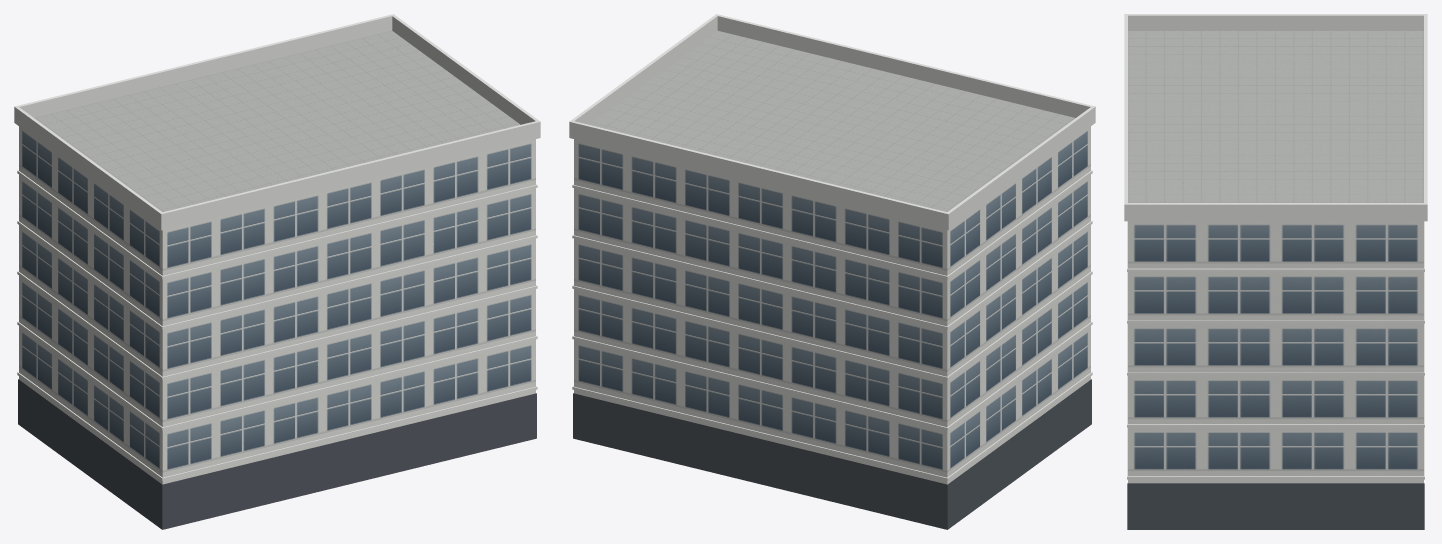
The model's file is dorm_qinyuan_d5.glb.
The picture shows the model from 3 angles, left to right: view 1: azimuth 30°, elevation 25°; view 2: azimuth 150°, elevation 25°; view 3: azimuth 270°, elevation 25°; orthographic projection. The views are drawn at different scales.
Parts seen in each view (by area): view 1: manual-33; view 2: manual-33; view 3: manual-33.
Part boxes in pixels (x1,y1,x2,y2): manual-33: (14, 14, 540, 529); manual-33: (569, 14, 1095, 529); manual-33: (1124, 14, 1427, 529).
Bounding box in the file's own units: 24.4 × 19.5 × 16.4.
Materials: 3 (2 with a texture image).
